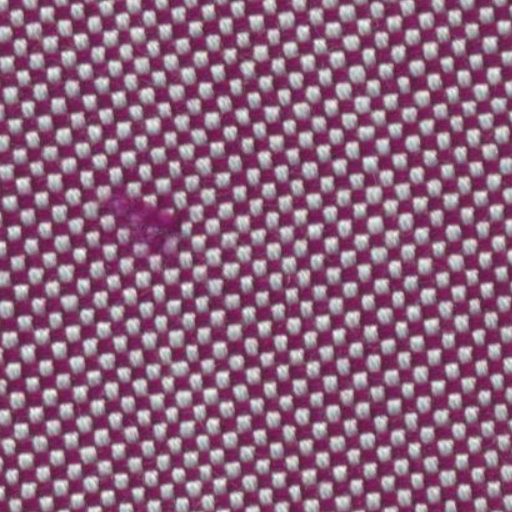DuanSha: (96, 172, 188, 268)
